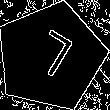L_SW: (24, 27, 78, 86)
